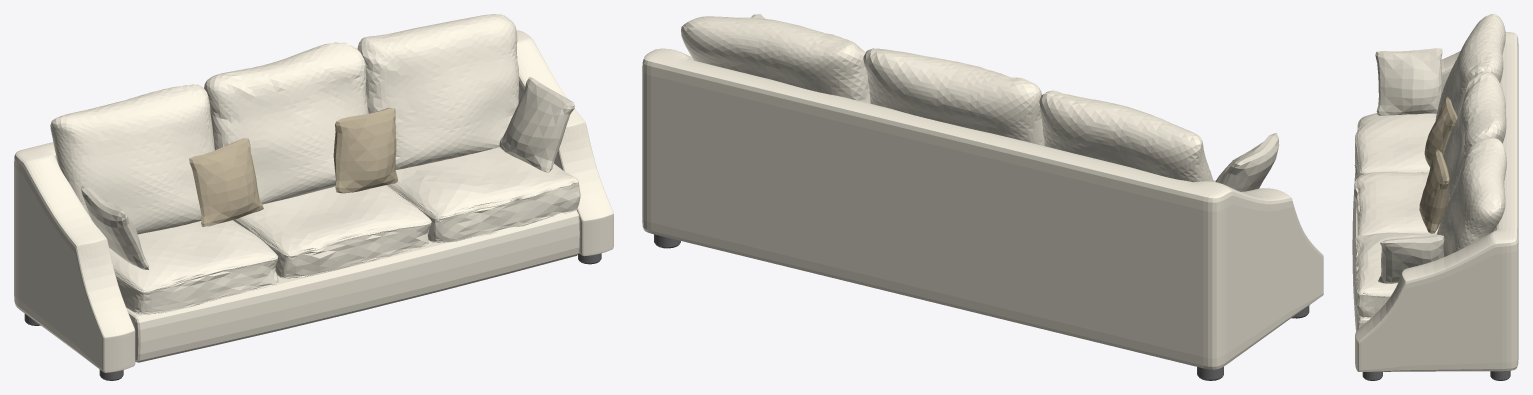
File: beige_sofa.glb
The picture shows the model from 3 angles, left to right: view 1: azimuth 30°, elevation 25°; view 2: azimuth 150°, elevation 25°; view 3: azimuth 270°, elevation 25°; orthographic projection. The views are drawn at different scales.
Parts seen in each view (by area): view 1: Node3, Node8, Node6, Node16, Node9, Node7, Node5, Node12, Node11, Node10, Node4, Node15; view 2: Node3, Node16, Node6, Node9, Node15; view 3: Node3, Node6, Node12, Node7, Node15, Node16, Node9, Node5, Node4, Node11, Node10, Node8 (+2 smaller).
Boxes of the visible parts, x1,y1,x2,y2 form: Node3: [14, 30, 613, 372]; Node8: [126, 210, 579, 362]; Node6: [357, 14, 519, 169]; Node16: [204, 42, 368, 204]; Node9: [50, 84, 214, 234]; Node7: [233, 185, 431, 278]; Node5: [386, 147, 580, 242]; Node12: [109, 220, 278, 314]; Node11: [333, 107, 397, 193]; Node10: [189, 138, 263, 226]; Node4: [499, 77, 574, 172]; Node15: [81, 185, 148, 269]; Node3: [642, 48, 1323, 369]; Node16: [863, 48, 1044, 145]; Node6: [681, 16, 870, 103]; Node9: [1039, 90, 1213, 182]; Node15: [1215, 133, 1279, 191]; Node3: [1355, 32, 1518, 371]; Node6: [1436, 138, 1506, 256]; Node12: [1354, 113, 1436, 178]; Node7: [1354, 172, 1439, 235]; Node15: [1375, 48, 1442, 115]; Node16: [1443, 71, 1506, 205]; Node9: [1435, 14, 1505, 120]; Node5: [1355, 232, 1436, 317]; Node4: [1378, 234, 1444, 283]; Node11: [1419, 149, 1449, 233]; Node10: [1424, 97, 1457, 167]; Node8: [1352, 172, 1370, 331].
Size of the model in its own units: 223 by 87.89 by 74.01.
